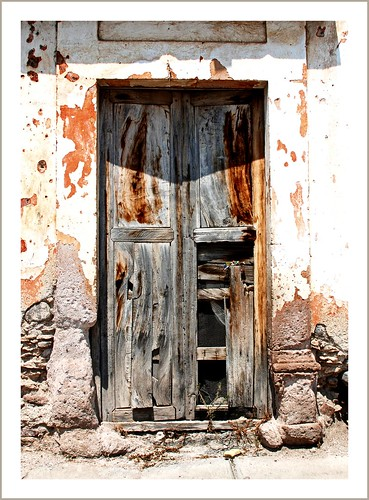door: (86, 74, 264, 422)
